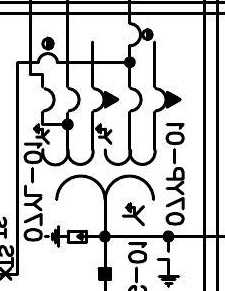115_gs: (156, 248, 181, 289)
115_la: (43, 224, 88, 249)
115_vt_3p: (33, 86, 183, 227)
